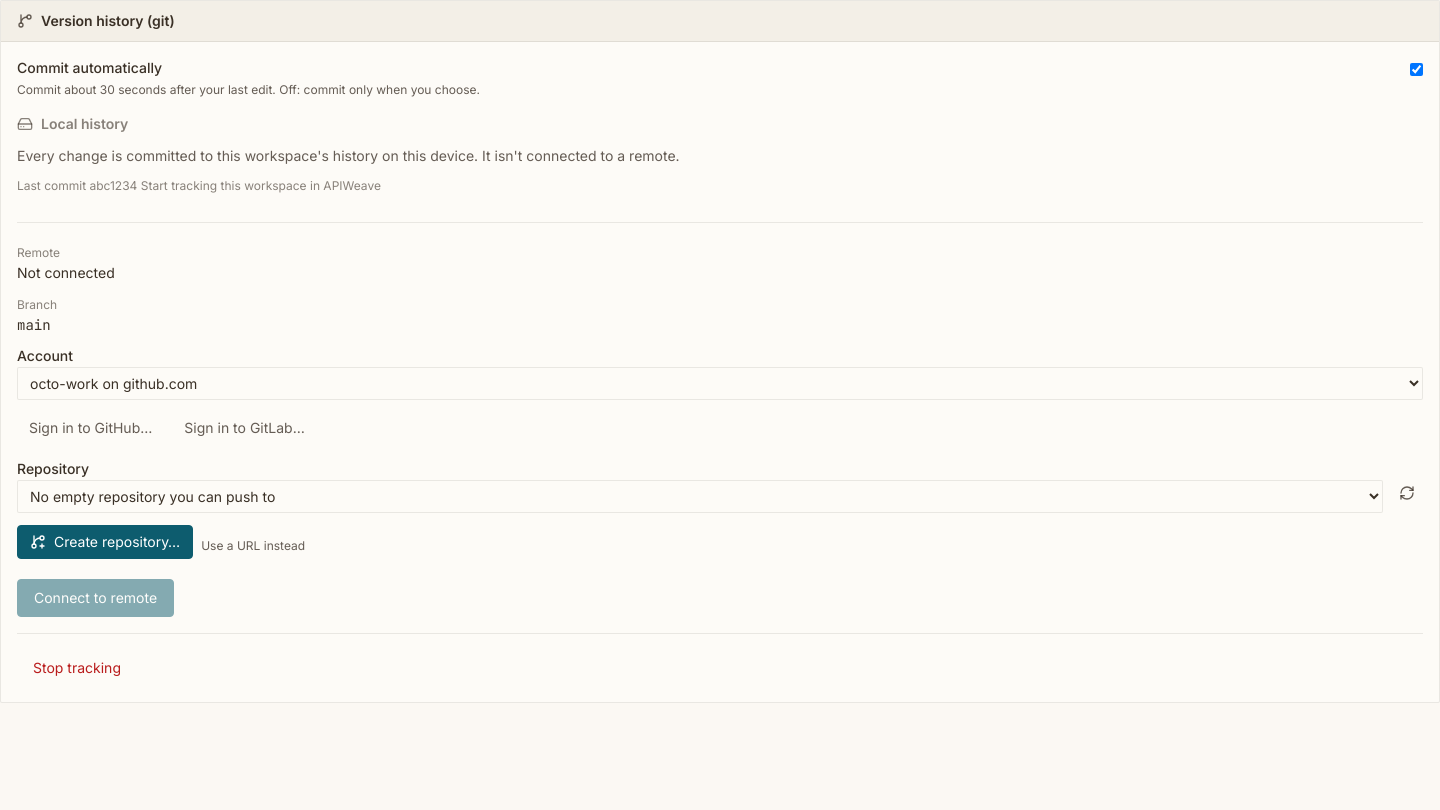
Scenario: Create repository › keeps a repository it could not connect to, says so, and fills the connect form in with it
Select "octo-work on github.com" in the dropdown named "Account". click: (720, 384)
box: [17,367,1423,400]
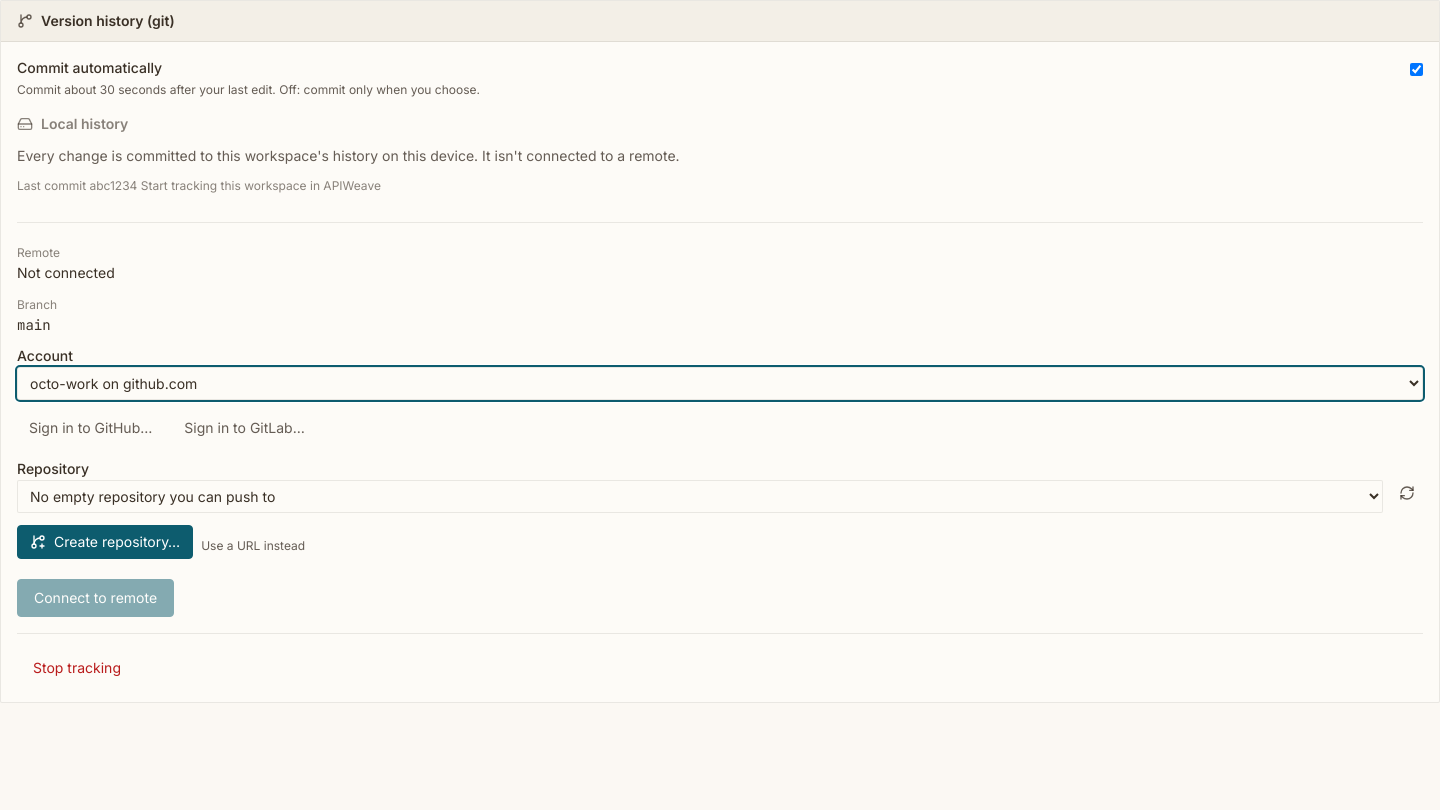
Click the button "Create repository…". click: click(105, 542)
box: [17,525,193,559]
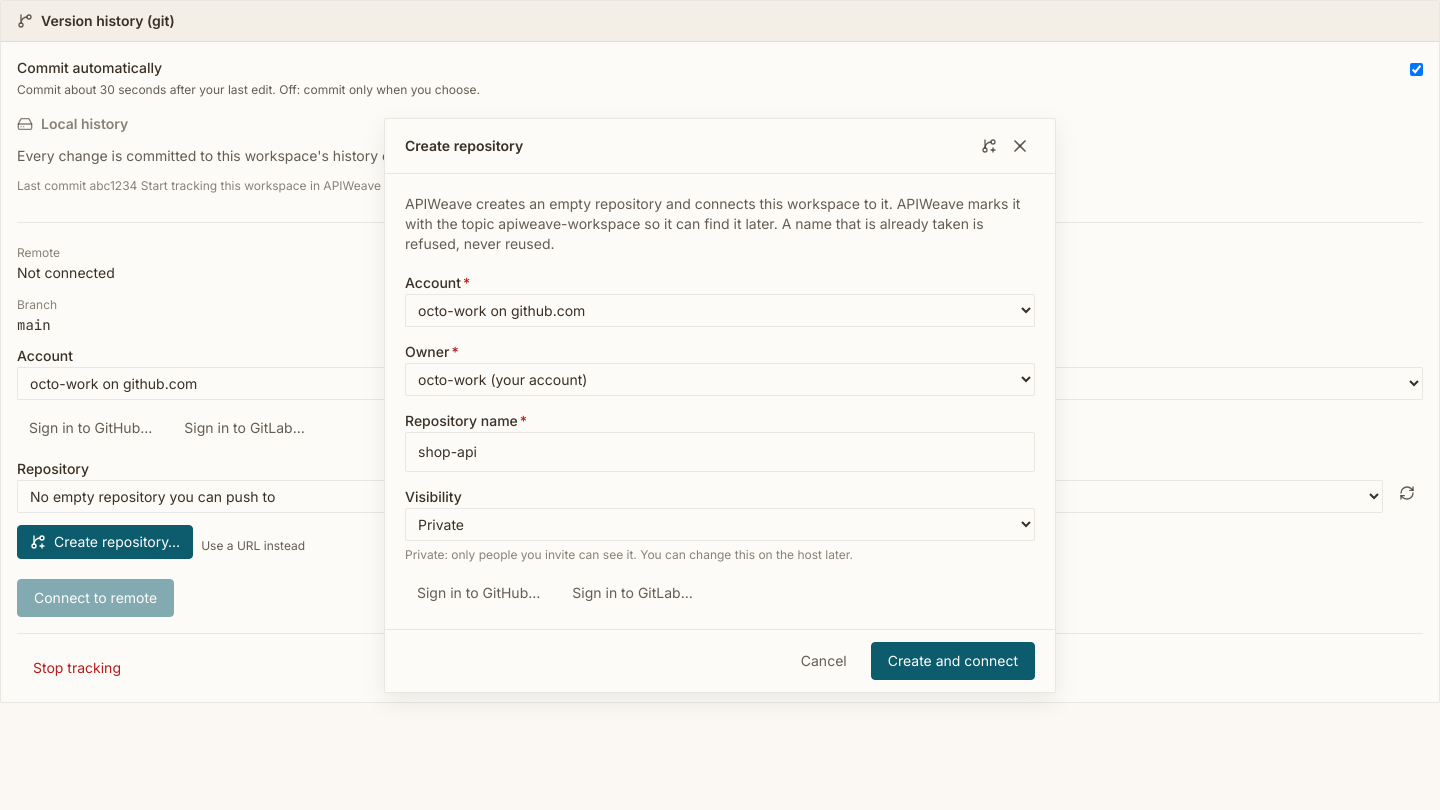
Now the dropdown named "Account" shows "octo-work on github.com", box [405,294,1035,326]
Now the dropdown named "Owner" shows "octo-work (your account)", box [405,362,1035,396]
Click the button "Create and connect". click: click(953, 660)
box: [871,642,1035,680]
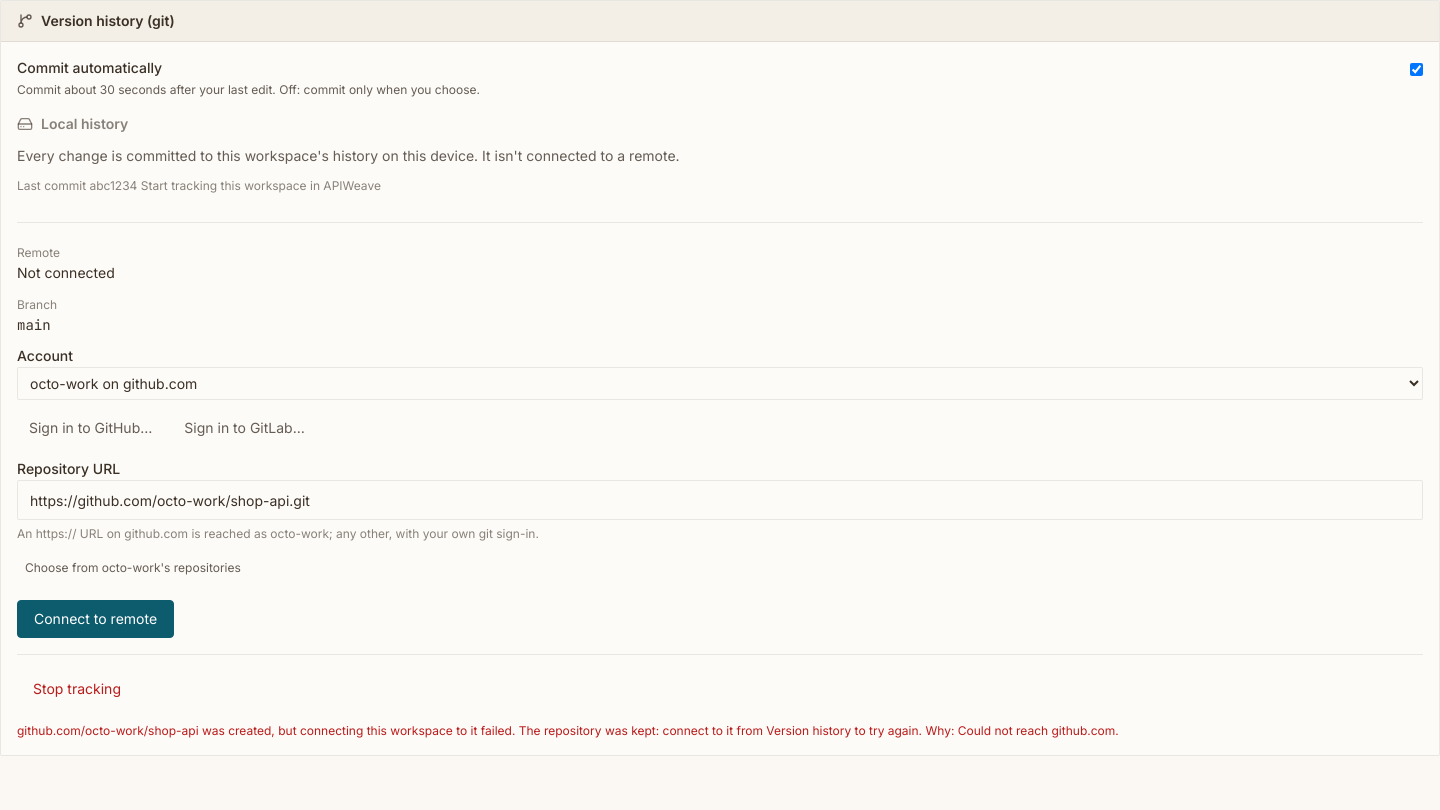
Now the message shows "github.com/octo-work/shop-api was created, but connecting this workspace to it failed. The repository was kept", box [17,723,1119,738]
Now the field named "Repository URL" holds "https://github.com/octo-work/shop-api.git", box [17,480,1423,520]
Now the button "Connect to remote" is enabled, box [17,600,174,638]
